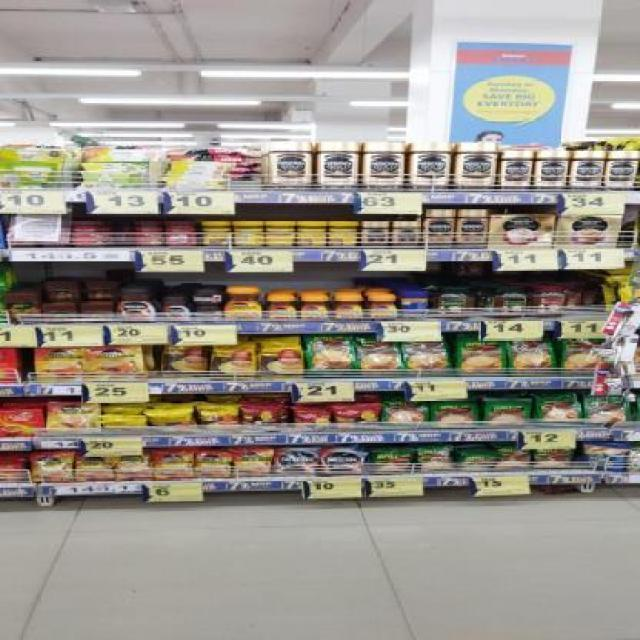Coffee: (269, 140, 314, 191), (455, 142, 498, 190), (319, 140, 360, 188), (365, 141, 405, 190), (90, 347, 143, 381), (33, 347, 84, 382), (413, 142, 449, 191), (46, 403, 99, 434), (570, 150, 606, 192), (223, 286, 262, 322), (499, 151, 532, 192), (118, 287, 156, 322), (534, 150, 566, 191), (607, 151, 638, 192), (321, 448, 364, 475), (31, 454, 71, 482), (278, 448, 317, 476), (458, 209, 486, 248), (425, 210, 452, 248), (153, 452, 192, 478), (77, 454, 114, 481), (197, 452, 232, 478), (117, 454, 152, 480), (236, 451, 270, 477), (366, 295, 398, 321), (362, 221, 390, 248), (162, 294, 190, 321), (267, 295, 296, 320), (334, 295, 363, 320), (300, 295, 328, 320), (393, 221, 418, 248), (194, 307, 222, 322), (193, 290, 222, 304)
